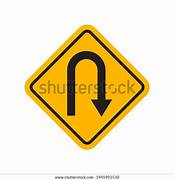back: (24, 24, 151, 149)
